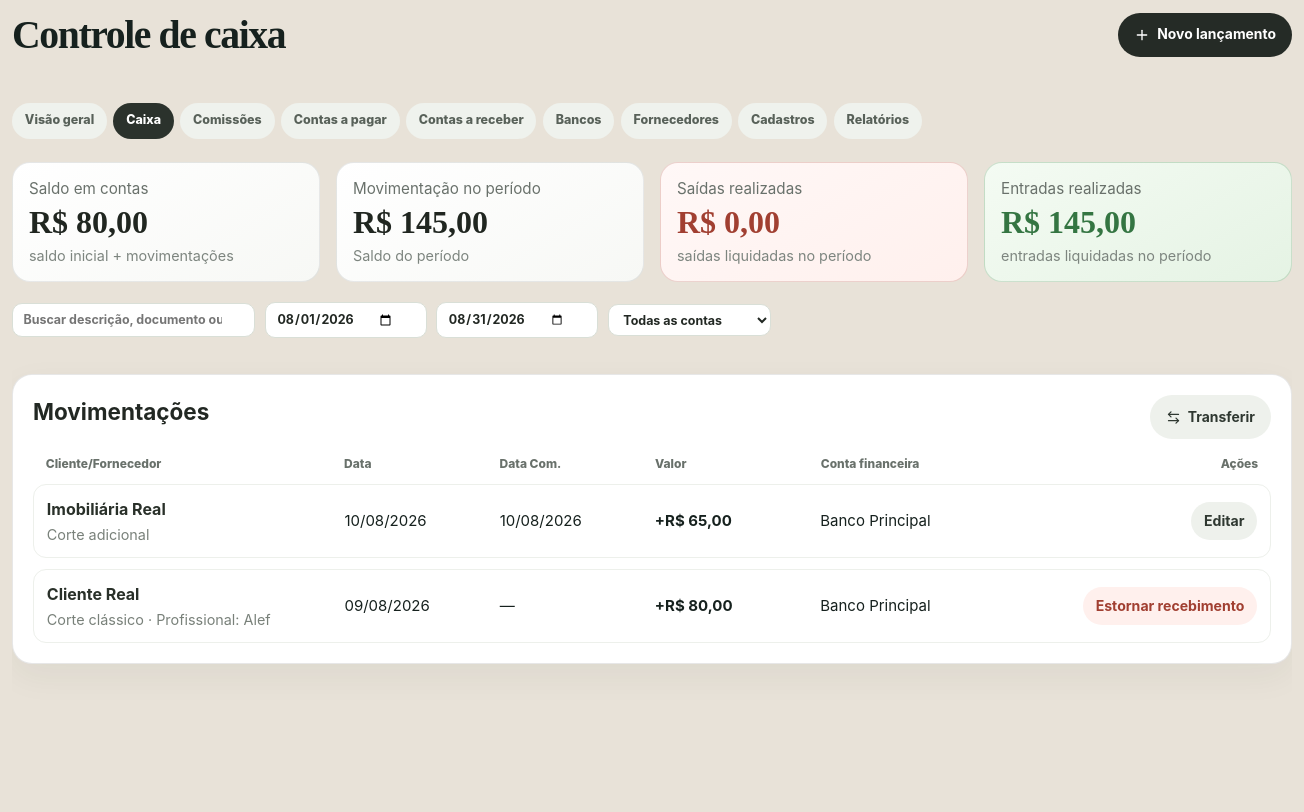
Test: cash manager › mostra settlements liquidados com contraparte, data brasileira e conta filtrável
Check: the text "Imobiliária Real" is shown, box x1=47 y1=499 x2=166 y2=519
Check: the text "10/08/2026" is shown 2 times, box x1=344 y1=511 x2=427 y2=530; x1=500 y1=511 x2=582 y2=530
Select "Caixa físico" in the dropdown named "Filtrar conta financeira": (690, 320) x1=608 y1=304 x2=771 y2=336
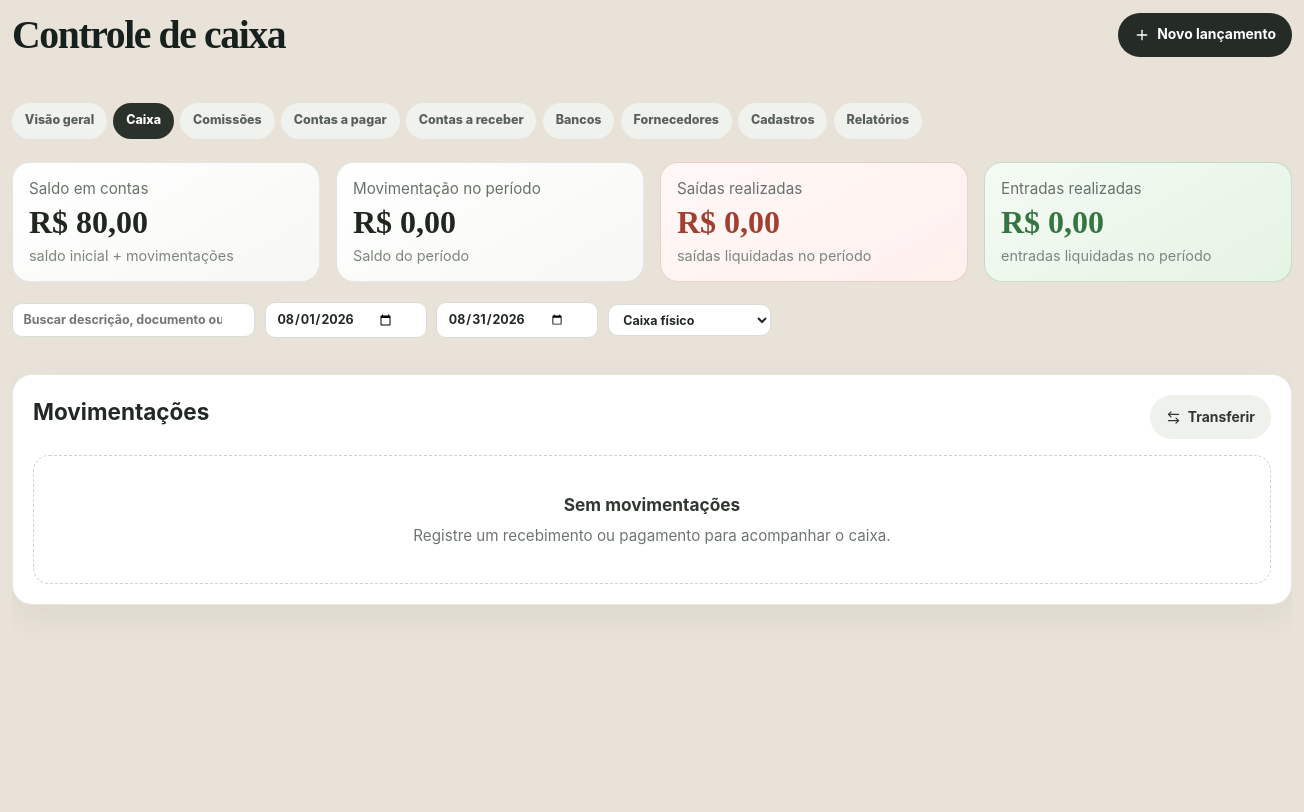
Check: the text "Corte adicional" is gone
Check: the text "Corte clássico · Profissional: Alef" is gone
